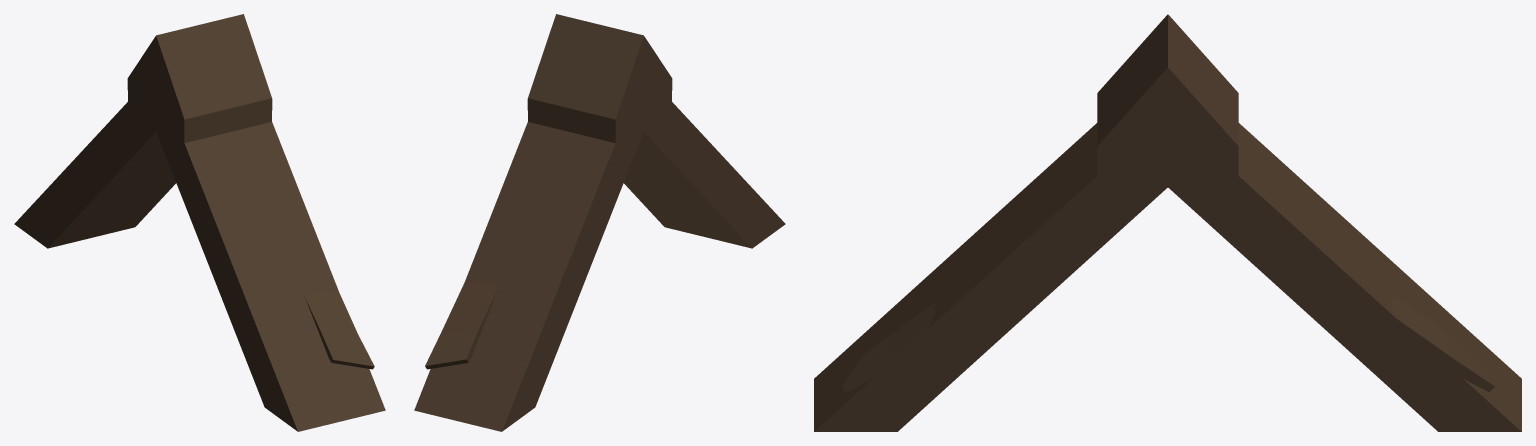
File: buildings-roof-wood-center-top-edge.glb
3 views of the same model, side by side, from view 1: azimuth 30°, elevation 25°; view 2: azimuth 150°, elevation 25°; view 3: azimuth 270°, elevation 25° (orthographic). The views are drawn at different scales.
Visible parts, largest first — view 1: roof-wood-center-top-edge; view 2: roof-wood-center-top-edge; view 3: roof-wood-center-top-edge.
Boxes of the visible parts, <box> form: roof-wood-center-top-edge: <box>14,14,385,431</box>; roof-wood-center-top-edge: <box>414,14,785,431</box>; roof-wood-center-top-edge: <box>814,14,1521,431</box>.
Size of the model in its own units: 0.7 by 2.23 by 3.93.
